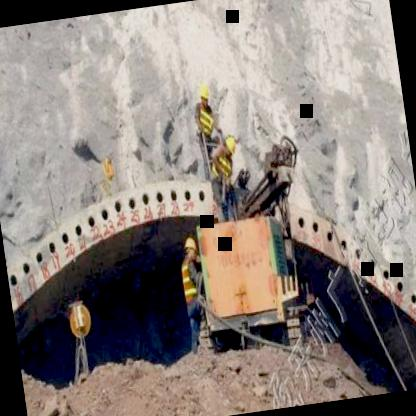helmet: (181, 236, 201, 266), (196, 82, 212, 110), (221, 134, 239, 158)
